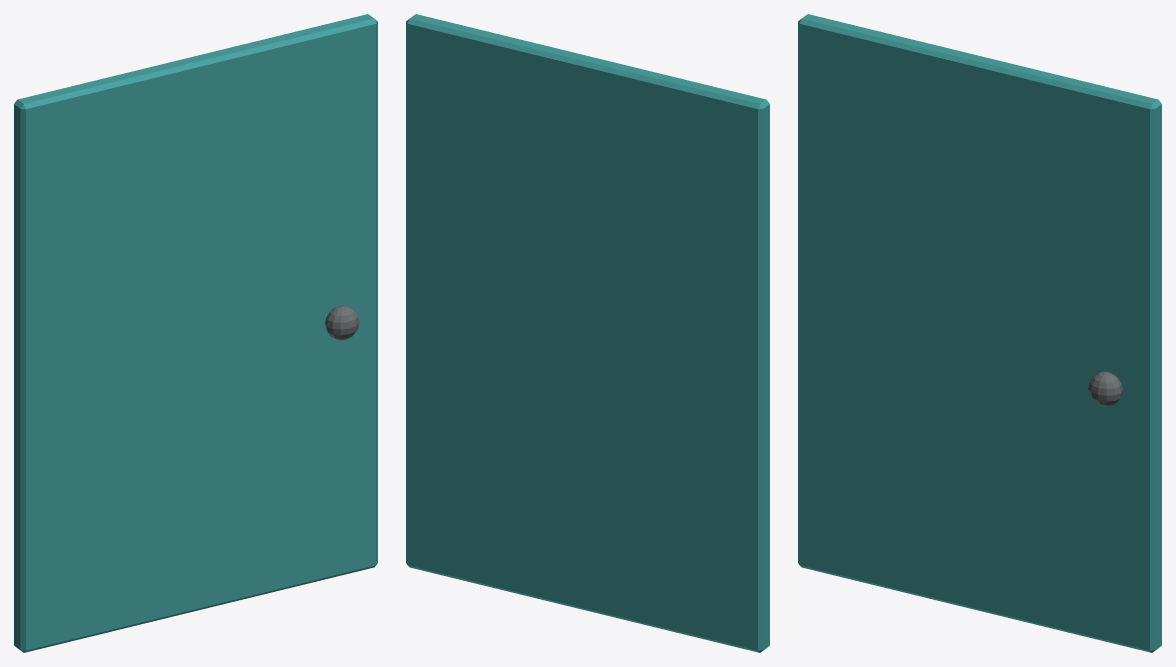
Rendered from exit_door.glb.
3 renders of one model, left to right at view 1: azimuth 30°, elevation 25°; view 2: azimuth 150°, elevation 25°; view 3: azimuth 330°, elevation 25°, orthographic.
Parts seen in each view (by area): view 1: DoorPanel, DoorKnob; view 2: DoorPanel; view 3: DoorPanel, DoorKnob.
Part boxes in pixels (bbox=[...]): DoorPanel: bbox=[14, 14, 377, 652]; DoorKnob: bbox=[325, 305, 359, 340]; DoorPanel: bbox=[406, 14, 769, 652]; DoorPanel: bbox=[798, 14, 1161, 652]; DoorKnob: bbox=[1088, 371, 1122, 406].
Size of the model in its own units: 1.5 by 2.2 by 0.1675.
